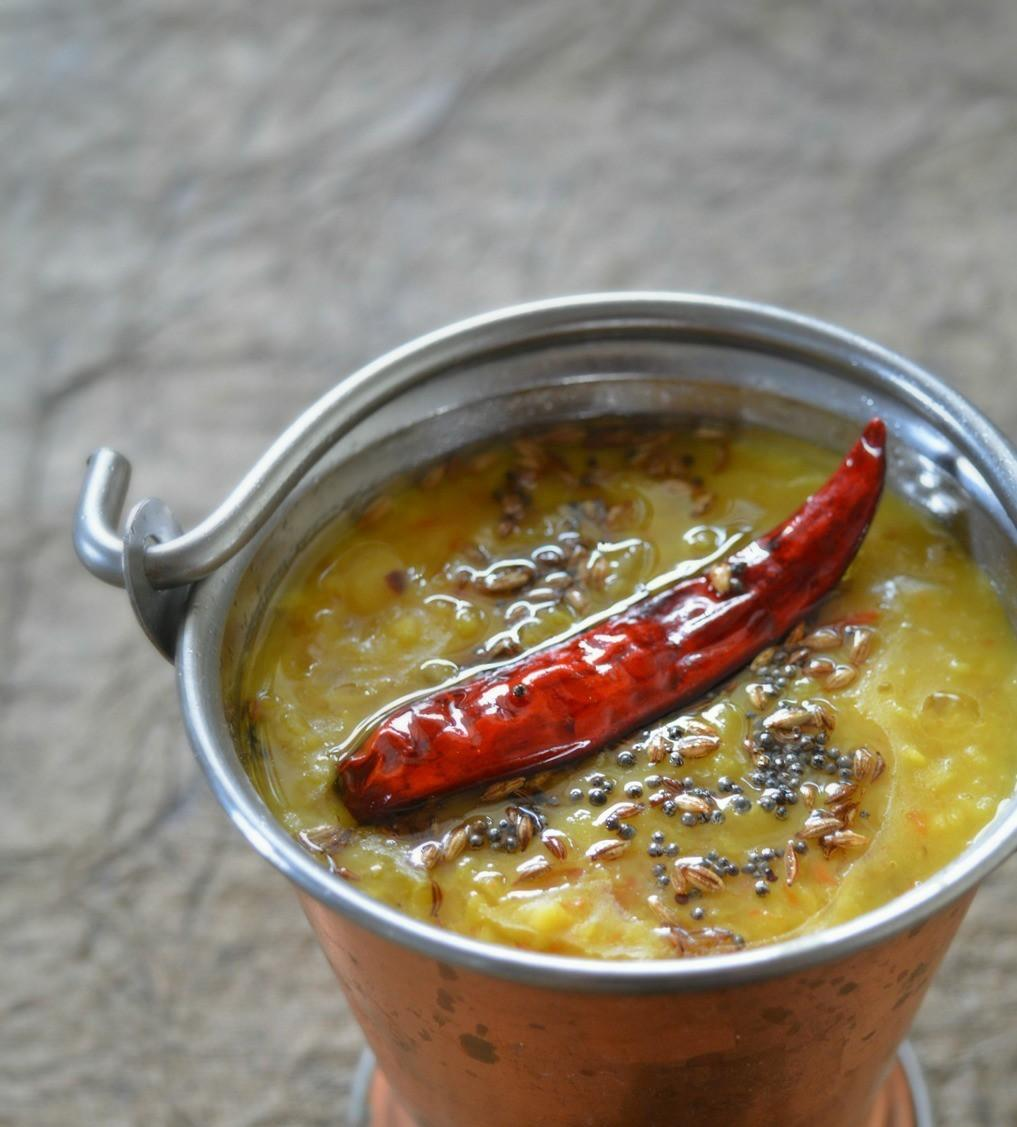Dal: (244, 416, 1017, 959)
